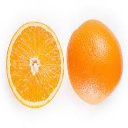orange: (5, 20, 65, 109), (67, 17, 124, 104)
